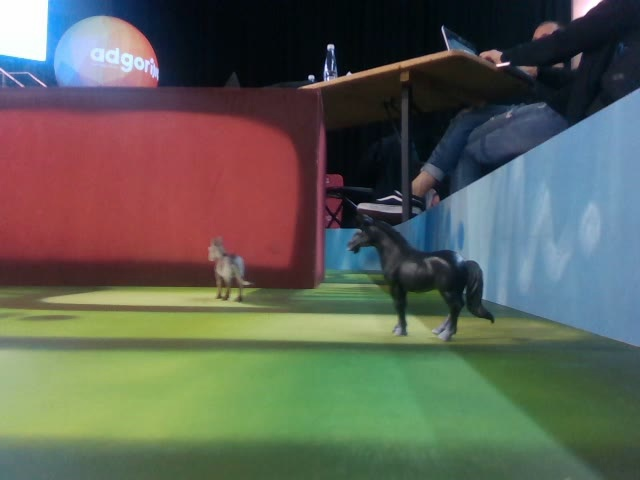toy: (346, 213, 494, 342), (209, 237, 252, 303)
